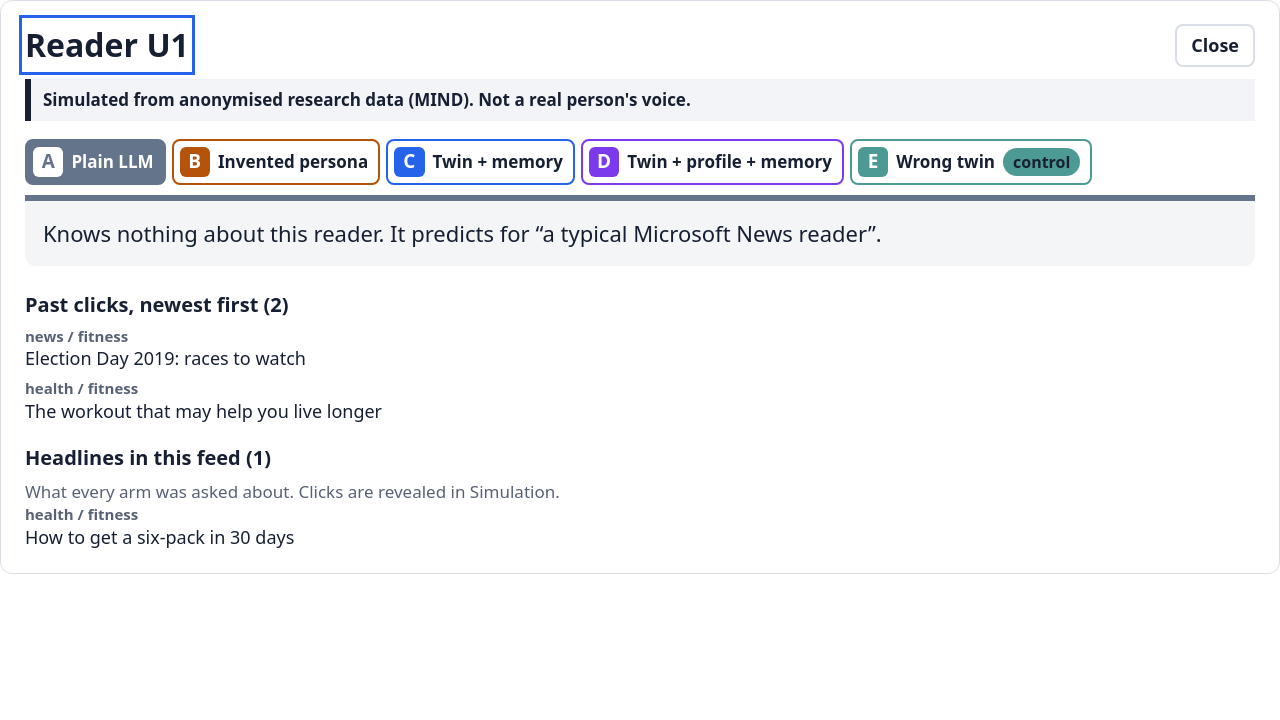
Test case: AgentPanel › shows the profile with its evidence, then the memories
This screenshot has width=1280, height=720.
Click the tab "D Twin + profile + memory".
click(712, 162)  # box top-left (581, 138), bottom-right (844, 185)
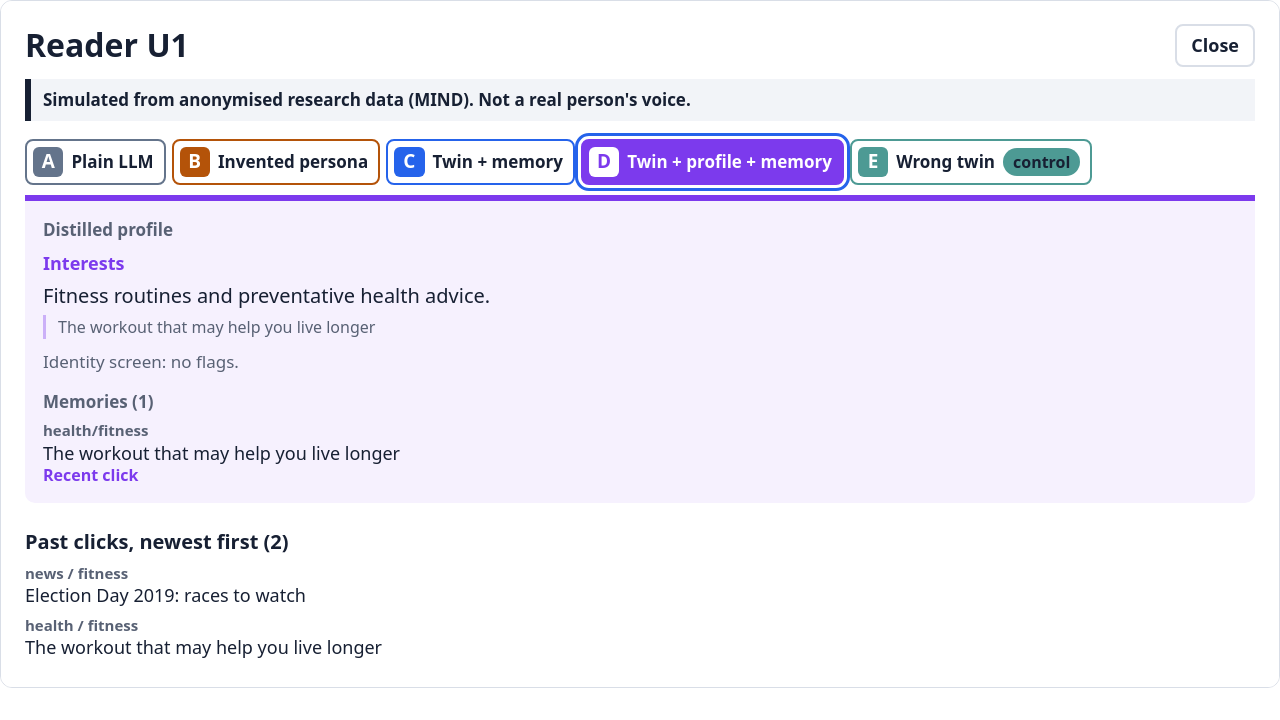
Expected: the panel shows "Fitness routines and preventative health advice.", top-left (43, 282), bottom-right (490, 309)
Expected: the number of list items "The workout that may help you live longer" is 2, top-left (58, 316), bottom-right (375, 338); top-left (43, 441), bottom-right (400, 465)
Expected: the panel shows "identity screen: no flags", top-left (43, 350), bottom-right (239, 373)
